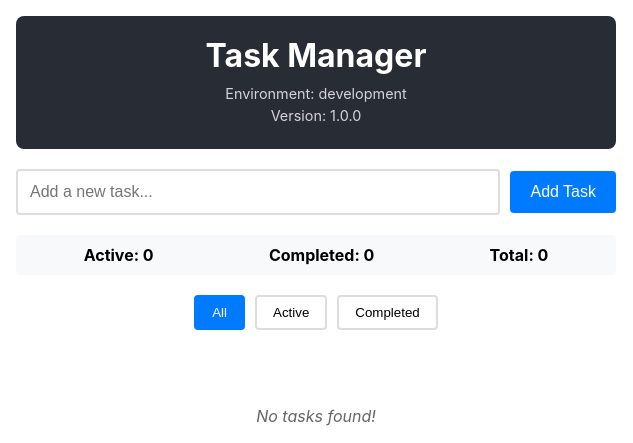
App Component › adds a new task
This screenshot has width=633, height=443.
In the field with placeholder "Add a new task...": (258, 192) [16,169,500,215], type "Test task"
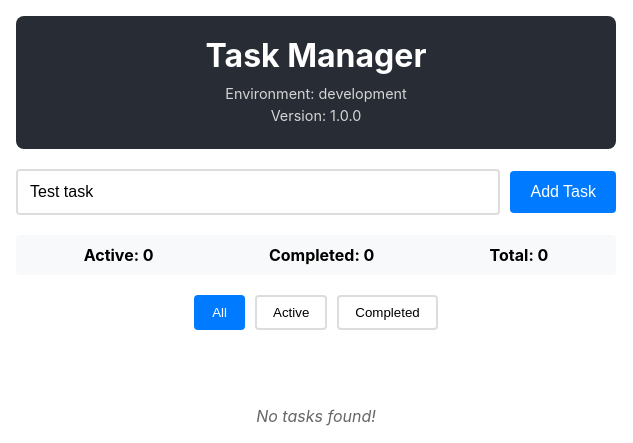
Click the button "Add Task": (563, 192) [510,171,616,213]
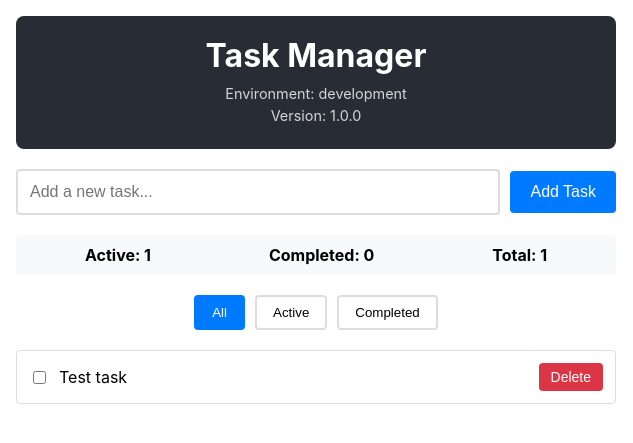
expect the text "Test task" is shown: met, box [59,367,127,387]
